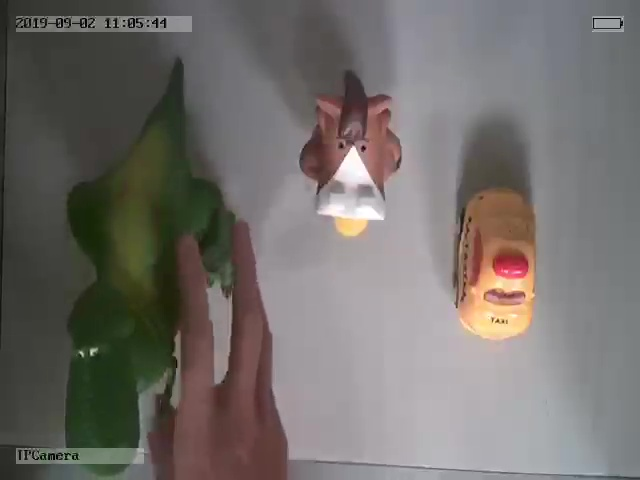car: (453, 186, 539, 343)
horse: (299, 72, 404, 235)
rex: (64, 68, 235, 474)
